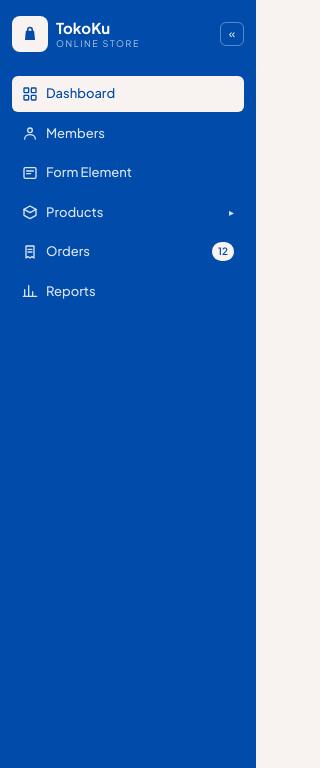
Test: Sidebar › hides labels and submenus when the sidebar is collapsed
The width and height of the screenshot is (320, 768).
Step 1. Click the button "Products ▸" → (128, 212), box 12,194 -> 244,230
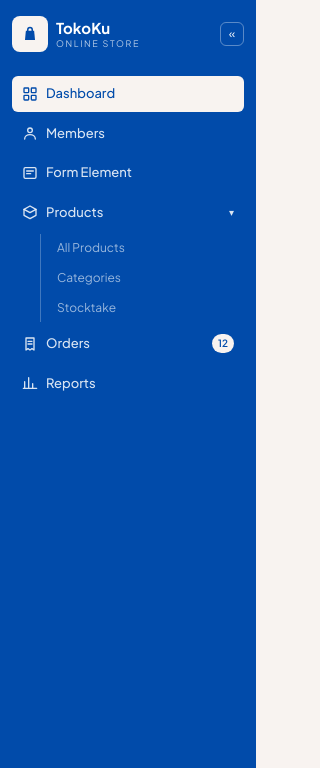
Expected: the button "All Products" is shown, 49,234 -> 244,262
Step 2. Click the button named "Collapse menu" → (232, 34), box 220,22 -> 244,46
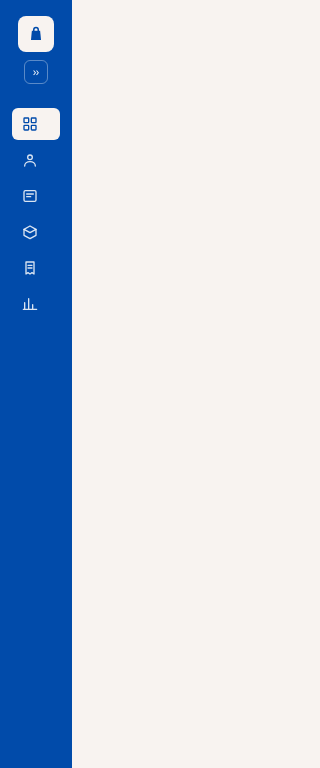
Expected: the text "Members" is gone
Expected: the button "All Products" is gone
